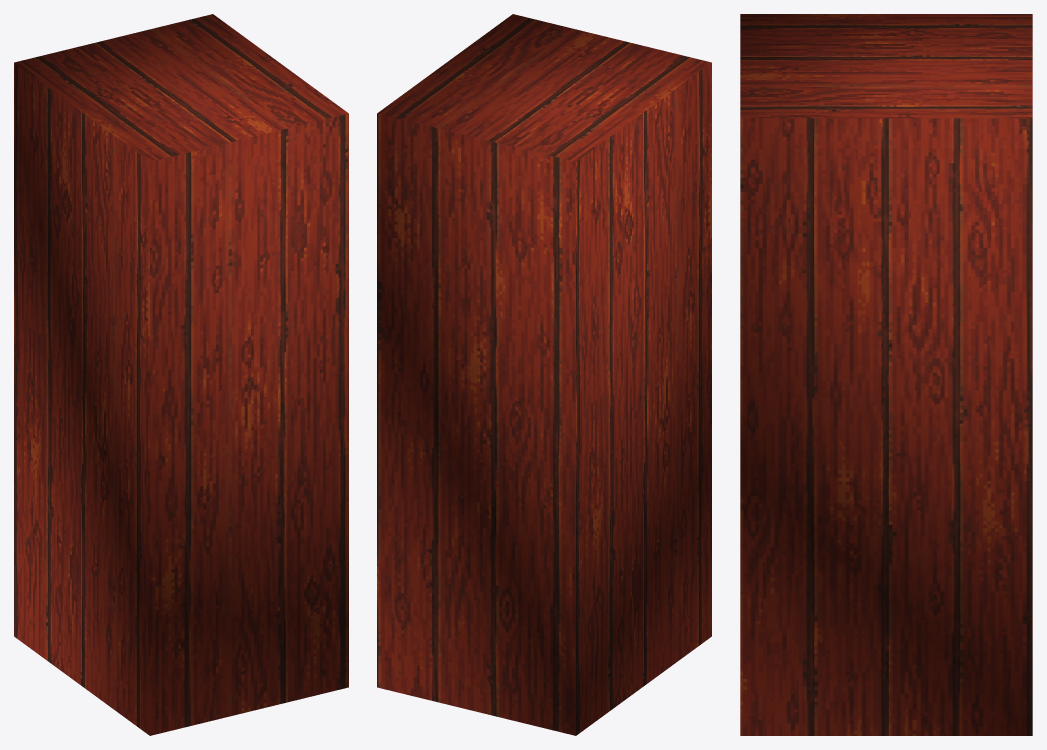
File: pillar.glb
3 views of the same model, side by side, from view 1: azimuth 30°, elevation 25°; view 2: azimuth 150°, elevation 25°; view 3: azimuth 270°, elevation 25° (orthographic). The views are drawn at different scales.
Parts seen in each view (by area): view 1: 平面; view 2: 平面; view 3: 平面.
Part boxes in pixels (x1,y1,x2,y2): 平面: [14, 14, 348, 735]; 平面: [377, 14, 711, 735]; 平面: [740, 14, 1032, 735].
Bounding box in the file's own units: 1.69 × 4.66 × 2.
1 material, 1 textured.
